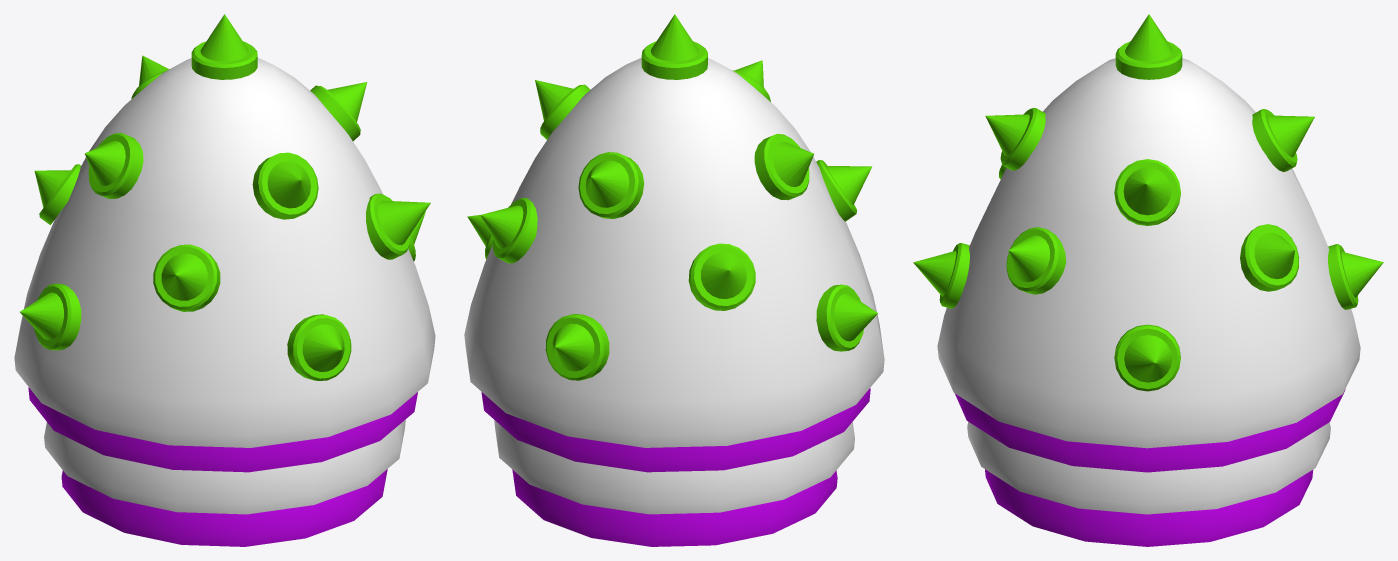
Rendered from head_lv7.fbx.
The picture shows the model from 3 angles, left to right: view 1: azimuth 30°, elevation 25°; view 2: azimuth 150°, elevation 25°; view 3: azimuth 270°, elevation 25°; orthographic projection.
Visible parts, largest first — view 1: head_lv7-; view 2: head_lv7-; view 3: head_lv7-.
Part boxes in pixels (bbox=[...]): head_lv7-: bbox=[14, 14, 435, 546]; head_lv7-: bbox=[464, 14, 884, 546]; head_lv7-: bbox=[913, 14, 1383, 546].
Size of the model in its own units: 156 by 170 by 156.
